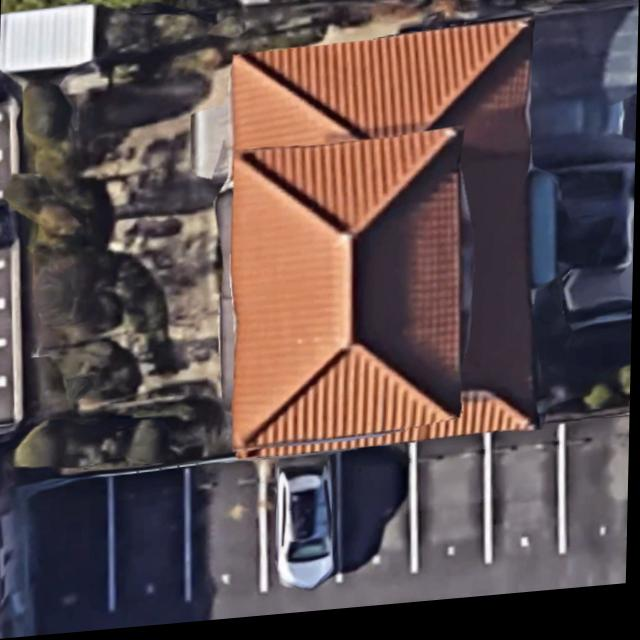Batiment: (232, 29, 534, 462), (232, 136, 462, 461)
